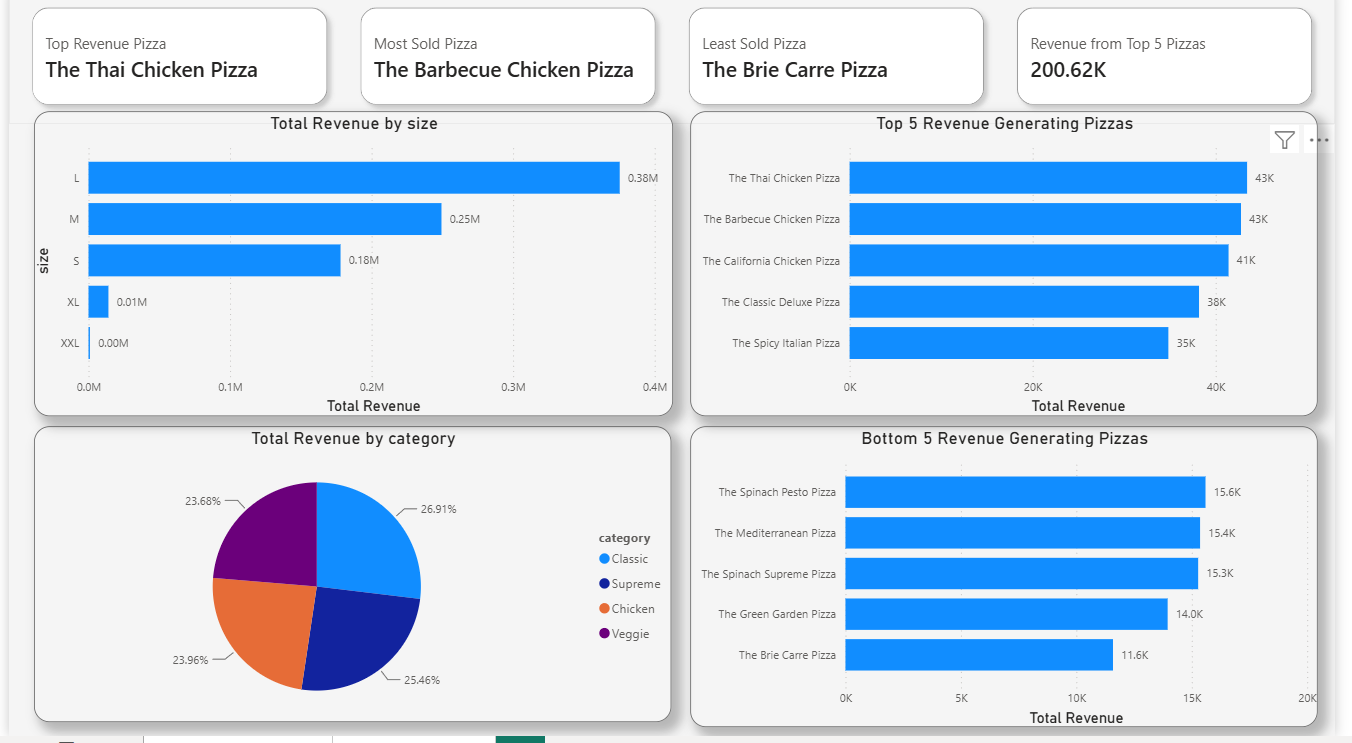

Layout of this report page (visuals, bound fields, positions):
{"tool":"powerbi","page":{"name":"Product Analysis","canvas":[1280,720],"ordinal":1},"visuals":[{"type":"cardVisual","fields":{"Data":["pizza_types.Top Revenue Pizza","Min(pizza_types.Most Sold Pizza)","pizza_types.Least Sold Pizza","pizza_types.Top5Revenue"]},"box":[0,0,1280.3,129],"z":0},{"type":"clusteredBarChart","title":"Top 5 Revenue Generating Pizzas","fields":{"Category":["pizza_types.name"],"Y":["order_details.Total Revenue"]},"box":[657.5,117,605.6,294.4],"z":1000},{"type":"clusteredBarChart","title":"Bottom 5 Revenue Generating Pizzas","fields":{"Category":["pizza_types.name"],"Y":["order_details.Total Revenue"]},"box":[657.5,421,605.6,290.8],"z":2000},{"type":"pieChart","fields":{"Category":["pizza_types.category"],"Y":["order_details.Total Revenue"]},"box":[24.1,421,615.3,285.9],"z":3000},{"type":"clusteredBarChart","fields":{"Category":["pizzas.size"],"Y":["order_details.Total Revenue"]},"box":[24.1,117,616.5,294.4],"z":4000}]}

Visuals, with their boxes in screenshot pixels (x1, y1, x2, y2), scaled from the page's 1280x720 canvas onto the 1352x743 screenshot:
cardVisual - pizza_types.Top Revenue Pizza x Min(pizza_types.Most Sold Pizza): [x1=0, y1=0, x2=1351, y2=133]
"Top 5 Revenue Generating Pizzas" clusteredBarChart: [x1=694, y1=121, x2=1334, y2=425]
"Bottom 5 Revenue Generating Pizzas" clusteredBarChart: [x1=694, y1=434, x2=1334, y2=735]
pieChart - pizza_types.category x order_details.Total Revenue: [x1=25, y1=434, x2=675, y2=729]
clusteredBarChart - pizzas.size x order_details.Total Revenue: [x1=25, y1=121, x2=677, y2=425]
